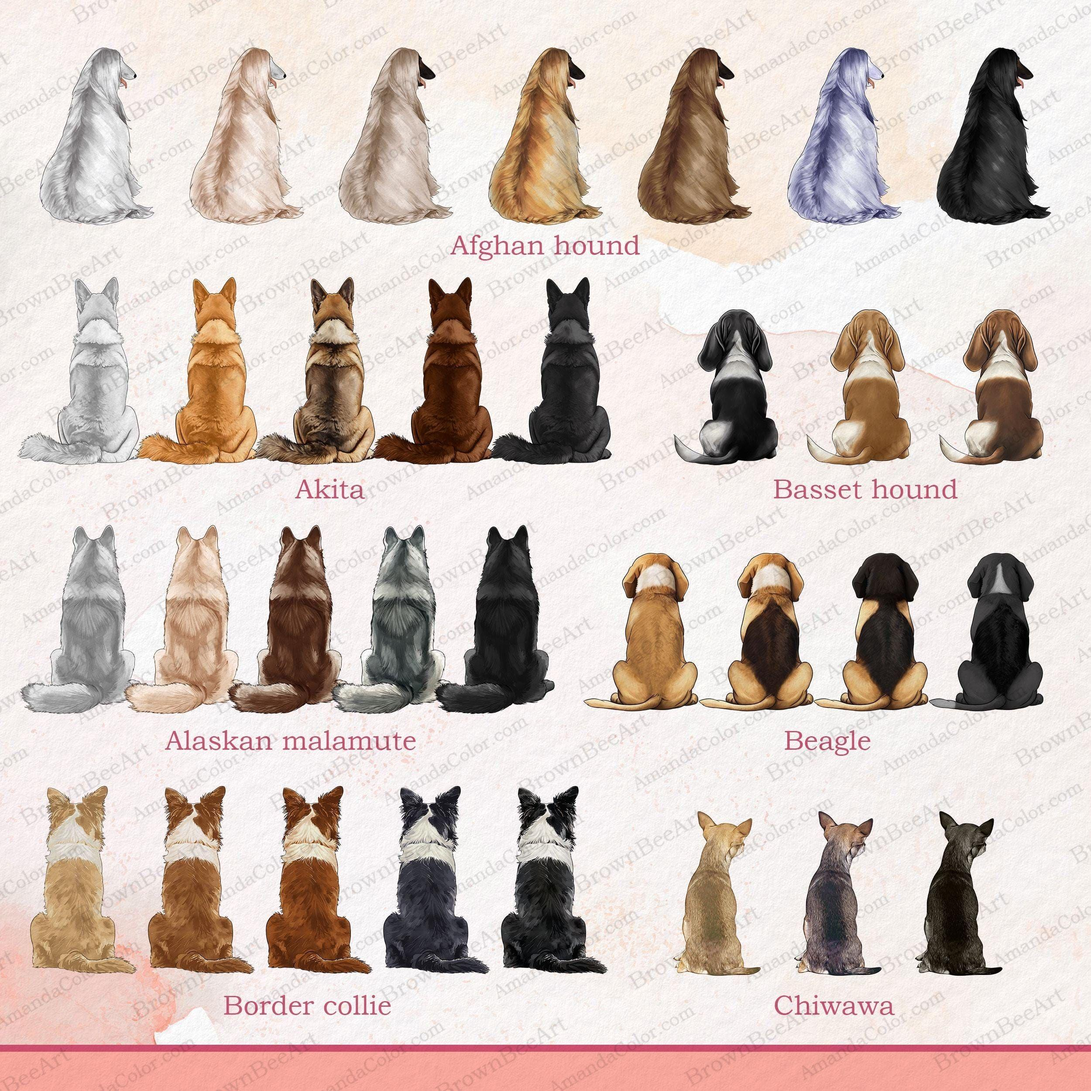adult_dog: (432, 524, 556, 715), (17, 276, 141, 465), (489, 277, 613, 466), (135, 276, 258, 466), (254, 276, 377, 466), (372, 276, 494, 466), (123, 524, 240, 715), (226, 524, 343, 715), (20, 524, 136, 715), (331, 524, 446, 715), (38, 45, 156, 225), (935, 46, 1053, 226), (636, 45, 753, 226), (487, 45, 603, 226), (786, 47, 903, 226), (381, 785, 491, 975), (188, 46, 304, 226), (338, 46, 454, 226), (147, 785, 256, 975), (265, 785, 374, 975), (500, 785, 609, 975), (29, 785, 137, 975), (582, 551, 700, 713), (929, 551, 1046, 713), (814, 551, 930, 713), (700, 551, 814, 713), (673, 307, 780, 466), (939, 308, 1045, 467), (806, 309, 912, 467), (793, 810, 883, 977), (915, 810, 1004, 977), (673, 810, 762, 976)
